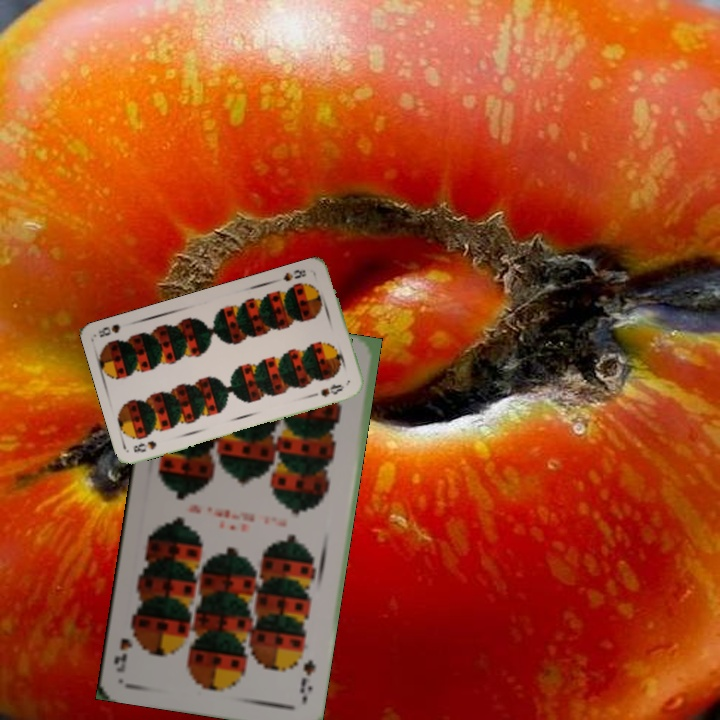S8: (279, 265, 309, 284), (129, 437, 159, 455)
S9: (295, 656, 318, 696)
